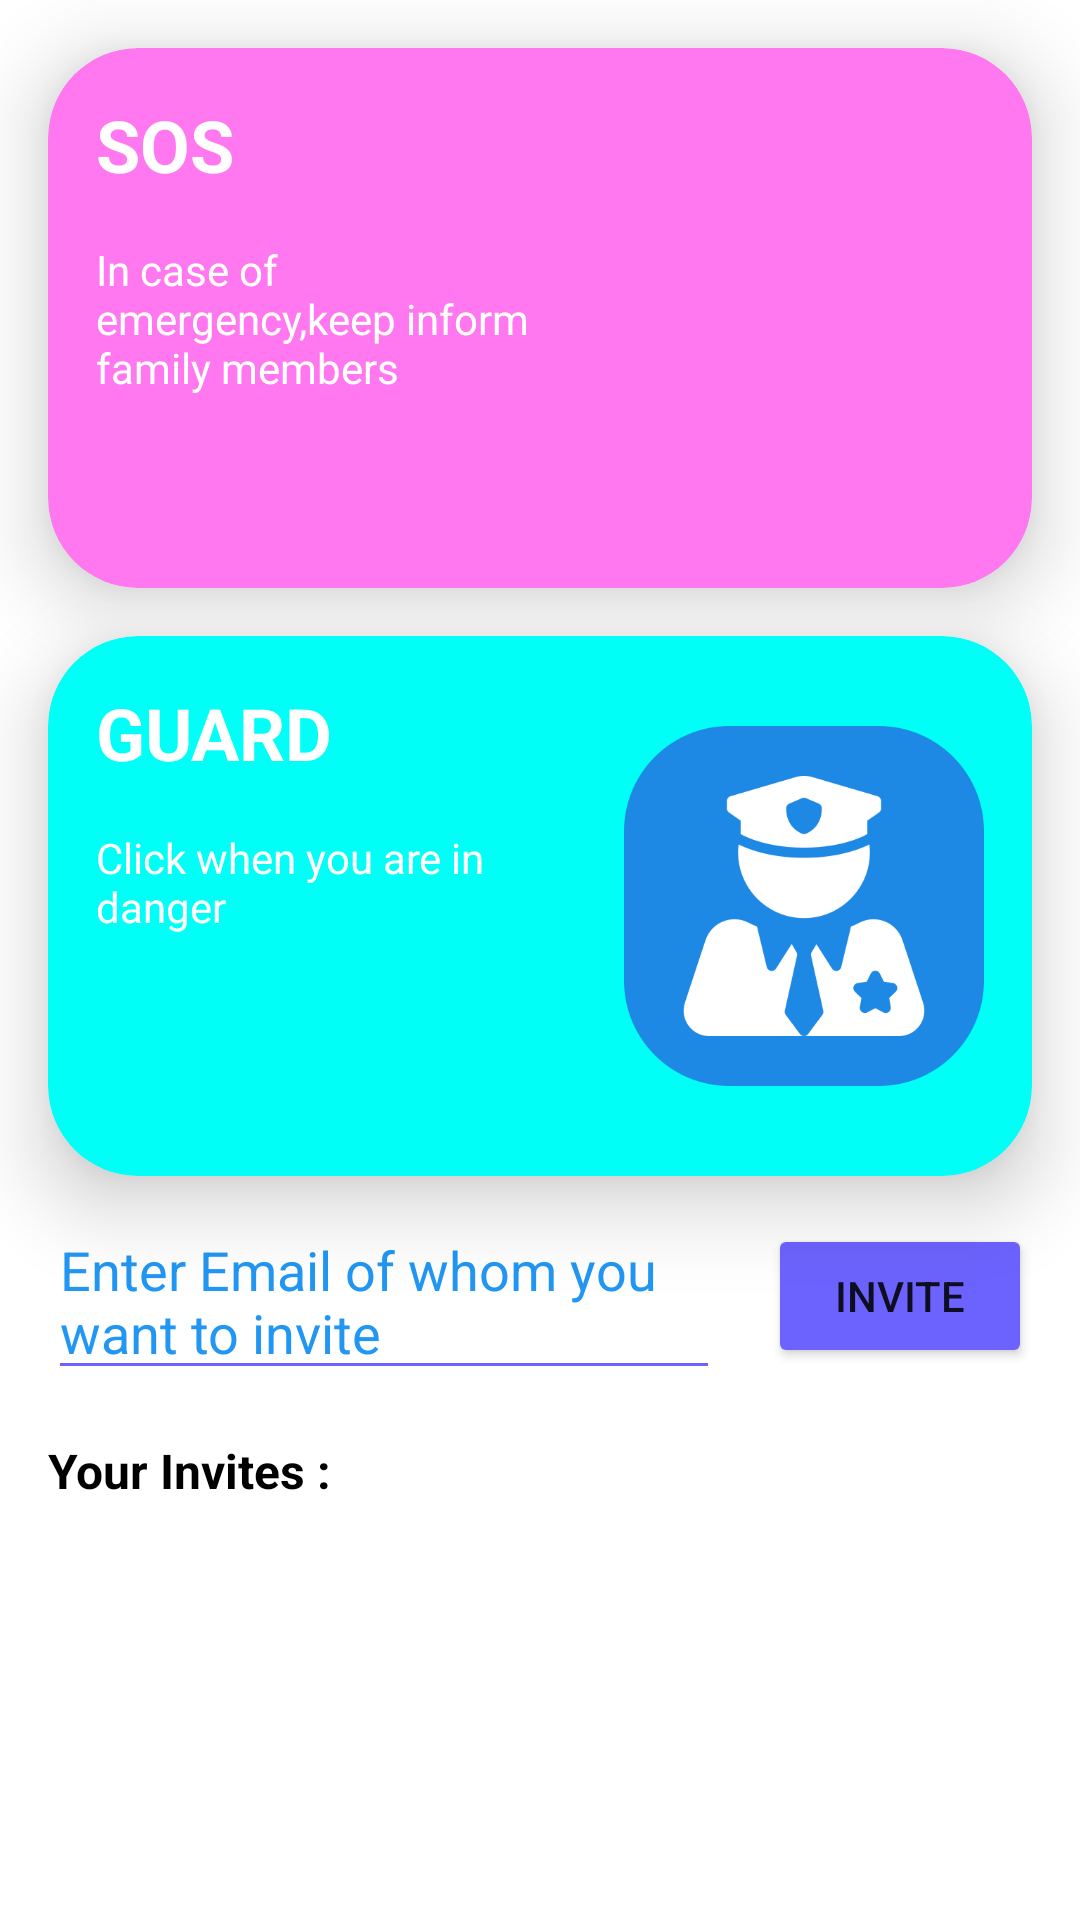

Where icons sit on this 1080px x 1920px app screen, as (x1, y1, x2, y2):
guard: (624, 726, 984, 1086)
